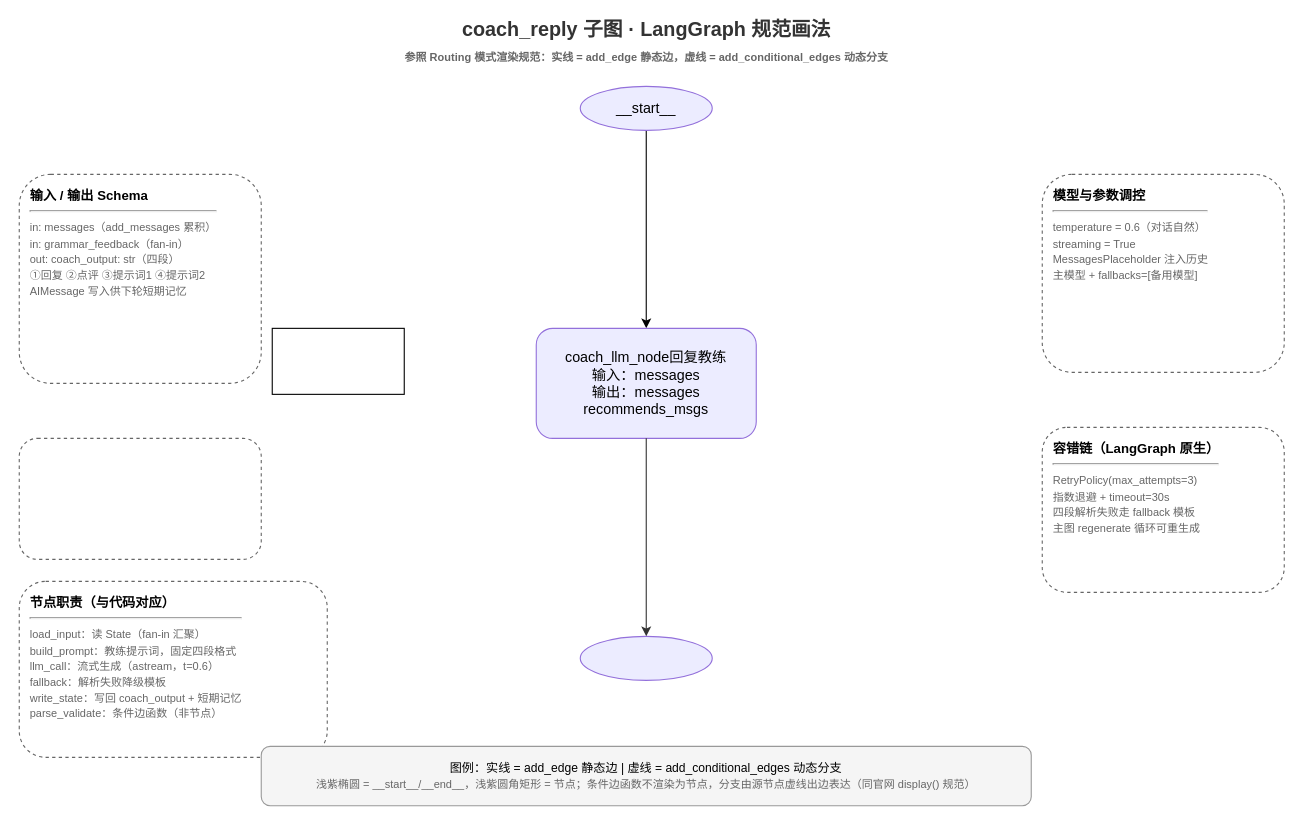
Image size: 1304x825. Some labels were removed from this diagram. The shapes that lost their labels are listed below. From the top down, each one's centre as x and y in pixels, then its label:
At (337,360): "context 1. 角色 2. 场景".
At (139,498): "可观测性 LangSmith trace 全链路 astream 流式 + 首字延迟统计".
At (645,657): "__end__".
